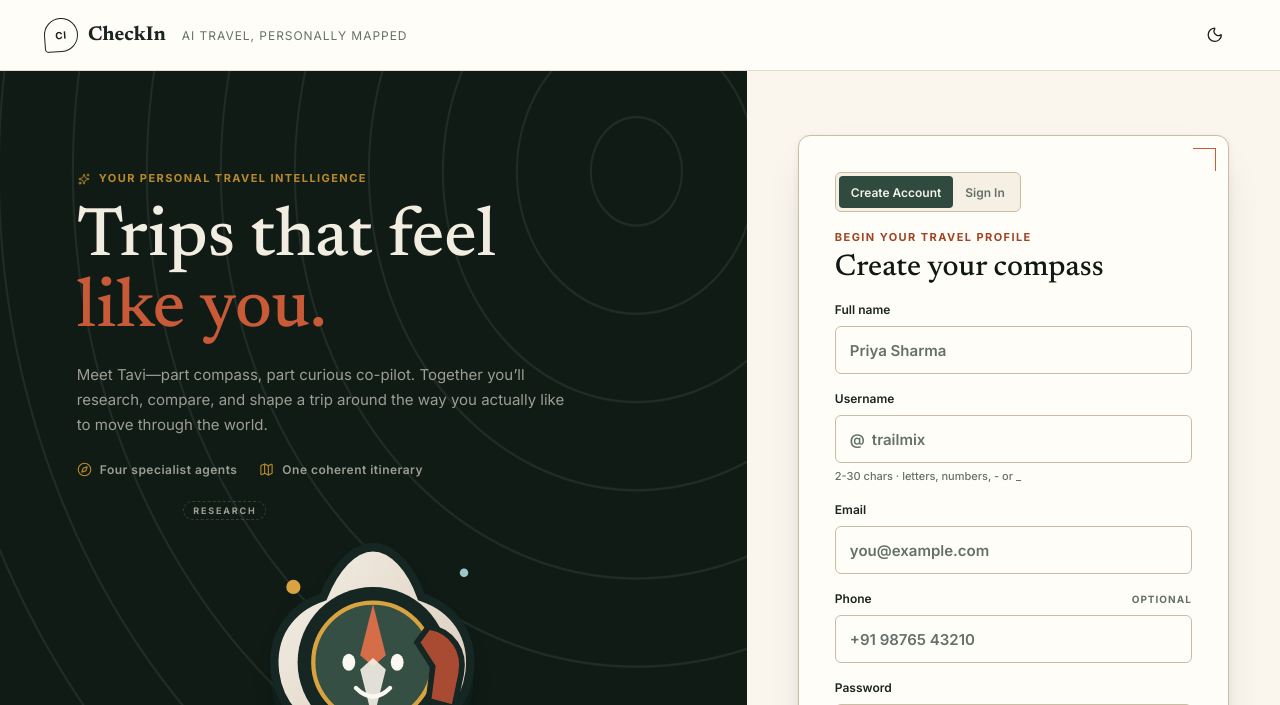
Test: shows the username as Available when the lookup returns 404
In the field labelled "Username": (1028, 439) [865,416,1191,462], type "newcomer"
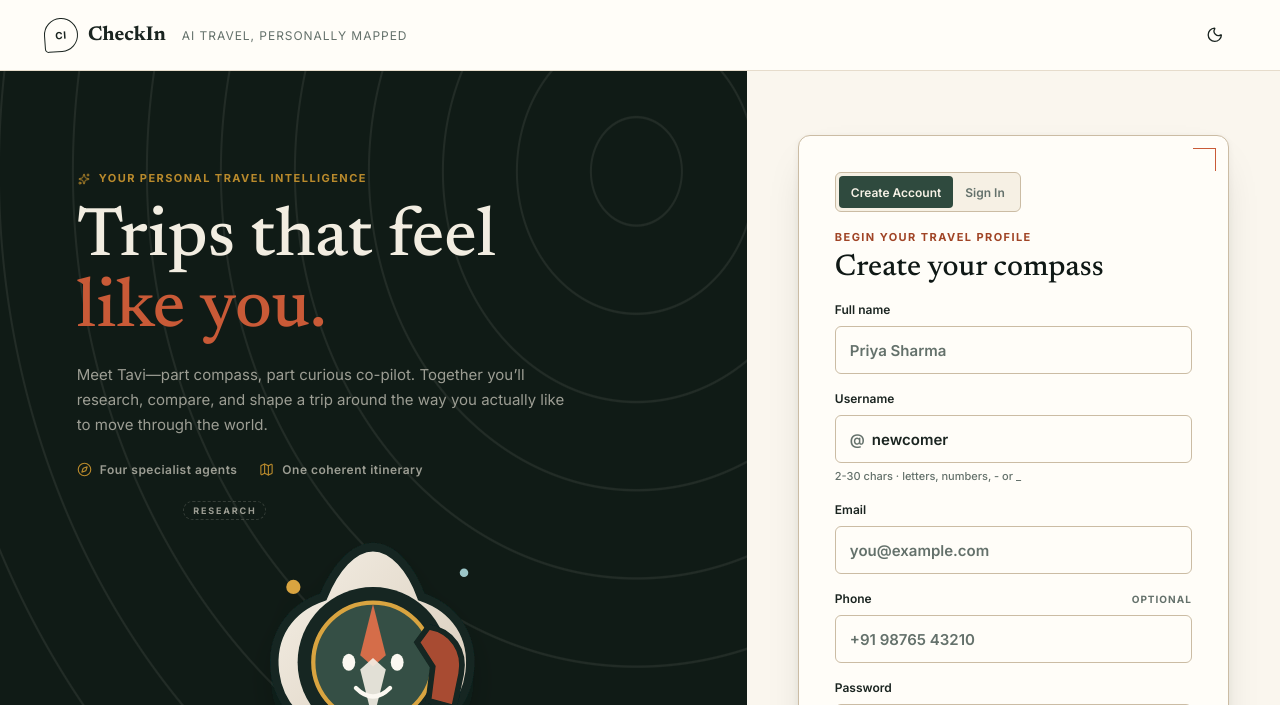
Leave the field labelled "Username", box [865,416,1191,462]
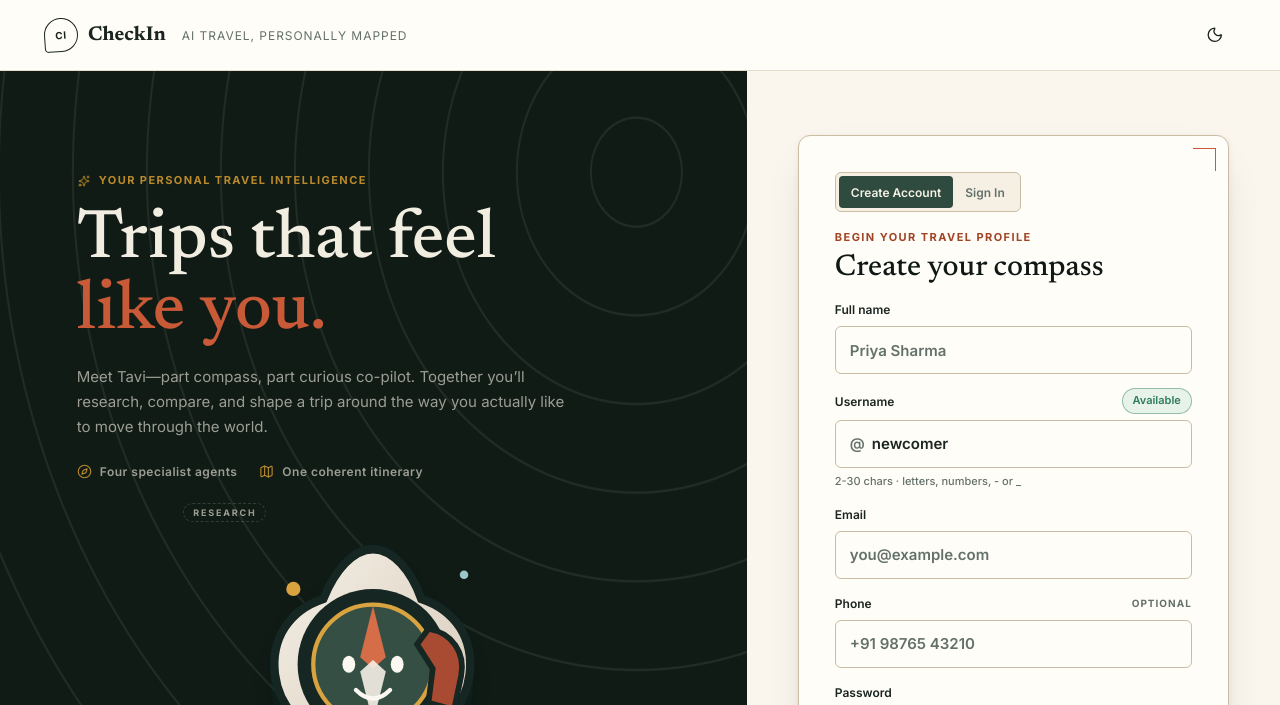
Now the text "Available" is shown, box [1122,388,1192,414]
